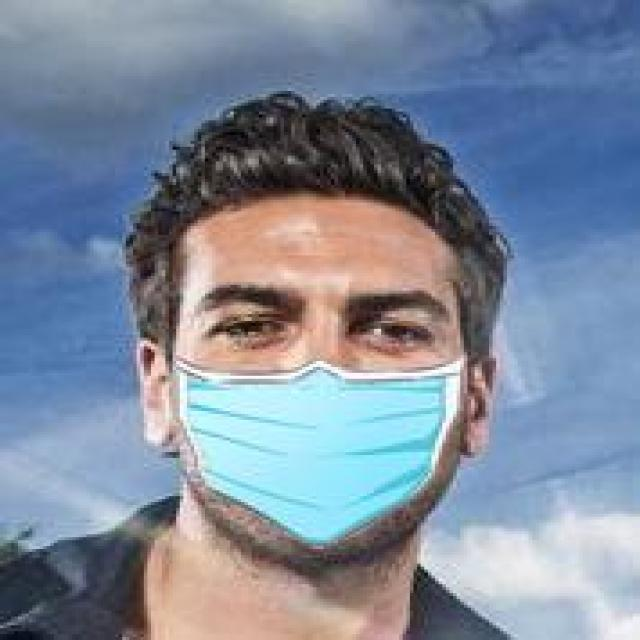mask: (119, 68, 528, 582)
